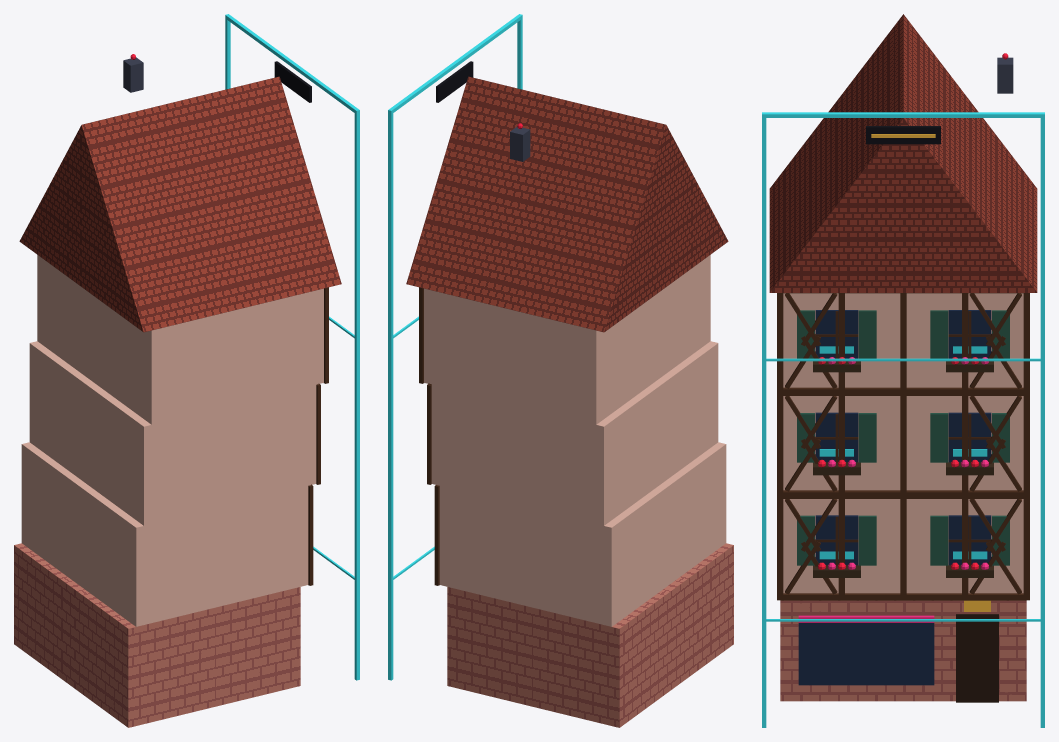
The model's file is pf_maison_b_licence.glb.
The picture shows the model from 3 angles, left to right: view 1: azimuth 30°, elevation 25°; view 2: azimuth 150°, elevation 25°; view 3: azimuth 270°, elevation 25°; orthographic projection. The views are drawn at different scales.
Visible parts, largest first — view 1: p_prism.011, p_box.1210, p_box.1240, p_box.1205, p_box.1270, p_box.1304, p_box.1306, p_box.1309, p_box.1303, p_box.1213; view 2: p_prism.011, p_box.1210, p_box.1240, p_box.1205, p_box.1270, p_box.1305, p_box.1306, p_box.1309, p_box.1303, p_box.1217; view 3: p_prism.011, p_box.1240, p_box.1210, p_box.1270, p_box.1205, p_box.1206, p_box.1208, p_box.1304, p_box.1305, p_box.1271, p_box.1211, p_box.1241 (+45 smaller).
Part boxes in pixels (x1,y1,x2,y2): p_prism.011: (19,76,341,332); p_box.1210: (21,442,308,626); p_box.1240: (29,341,316,525); p_box.1205: (14,543,300,727); p_box.1270: (37,255,323,424); p_box.1304: (354,112,359,680); p_box.1306: (225,14,359,114); p_box.1309: (274,61,311,102); p_box.1303: (123,57,143,92); p_box.1213: (308,485,313,585); p_prism.011: (406,76,728,332); p_box.1210: (439,442,726,626); p_box.1240: (431,341,718,525); p_box.1205: (447,543,733,727); p_box.1270: (424,255,710,424); p_box.1305: (388,112,393,680); p_box.1306: (388,14,522,113); p_box.1309: (436,61,473,102); p_box.1303: (510,127,530,161); p_box.1217: (434,485,439,585); p_prism.011: (769,14,1037,292); p_box.1240: (783,396,1023,490); p_box.1210: (783,499,1023,593); p_box.1270: (783,293,1023,387); p_box.1205: (780,600,1026,701); p_box.1206: (798,623,934,685); p_box.1208: (956,614,998,702); p_box.1304: (762,116,766,727); p_box.1305: (1040,116,1044,727); p_box.1271: (780,387,1026,395); p_box.1211: (780,593,1026,600); p_box.1241: (780,490,1026,497).
Bounding box in the file's own units: 5.2 × 12.66 × 5.28.
Materials: 14 (2 with a texture image).
